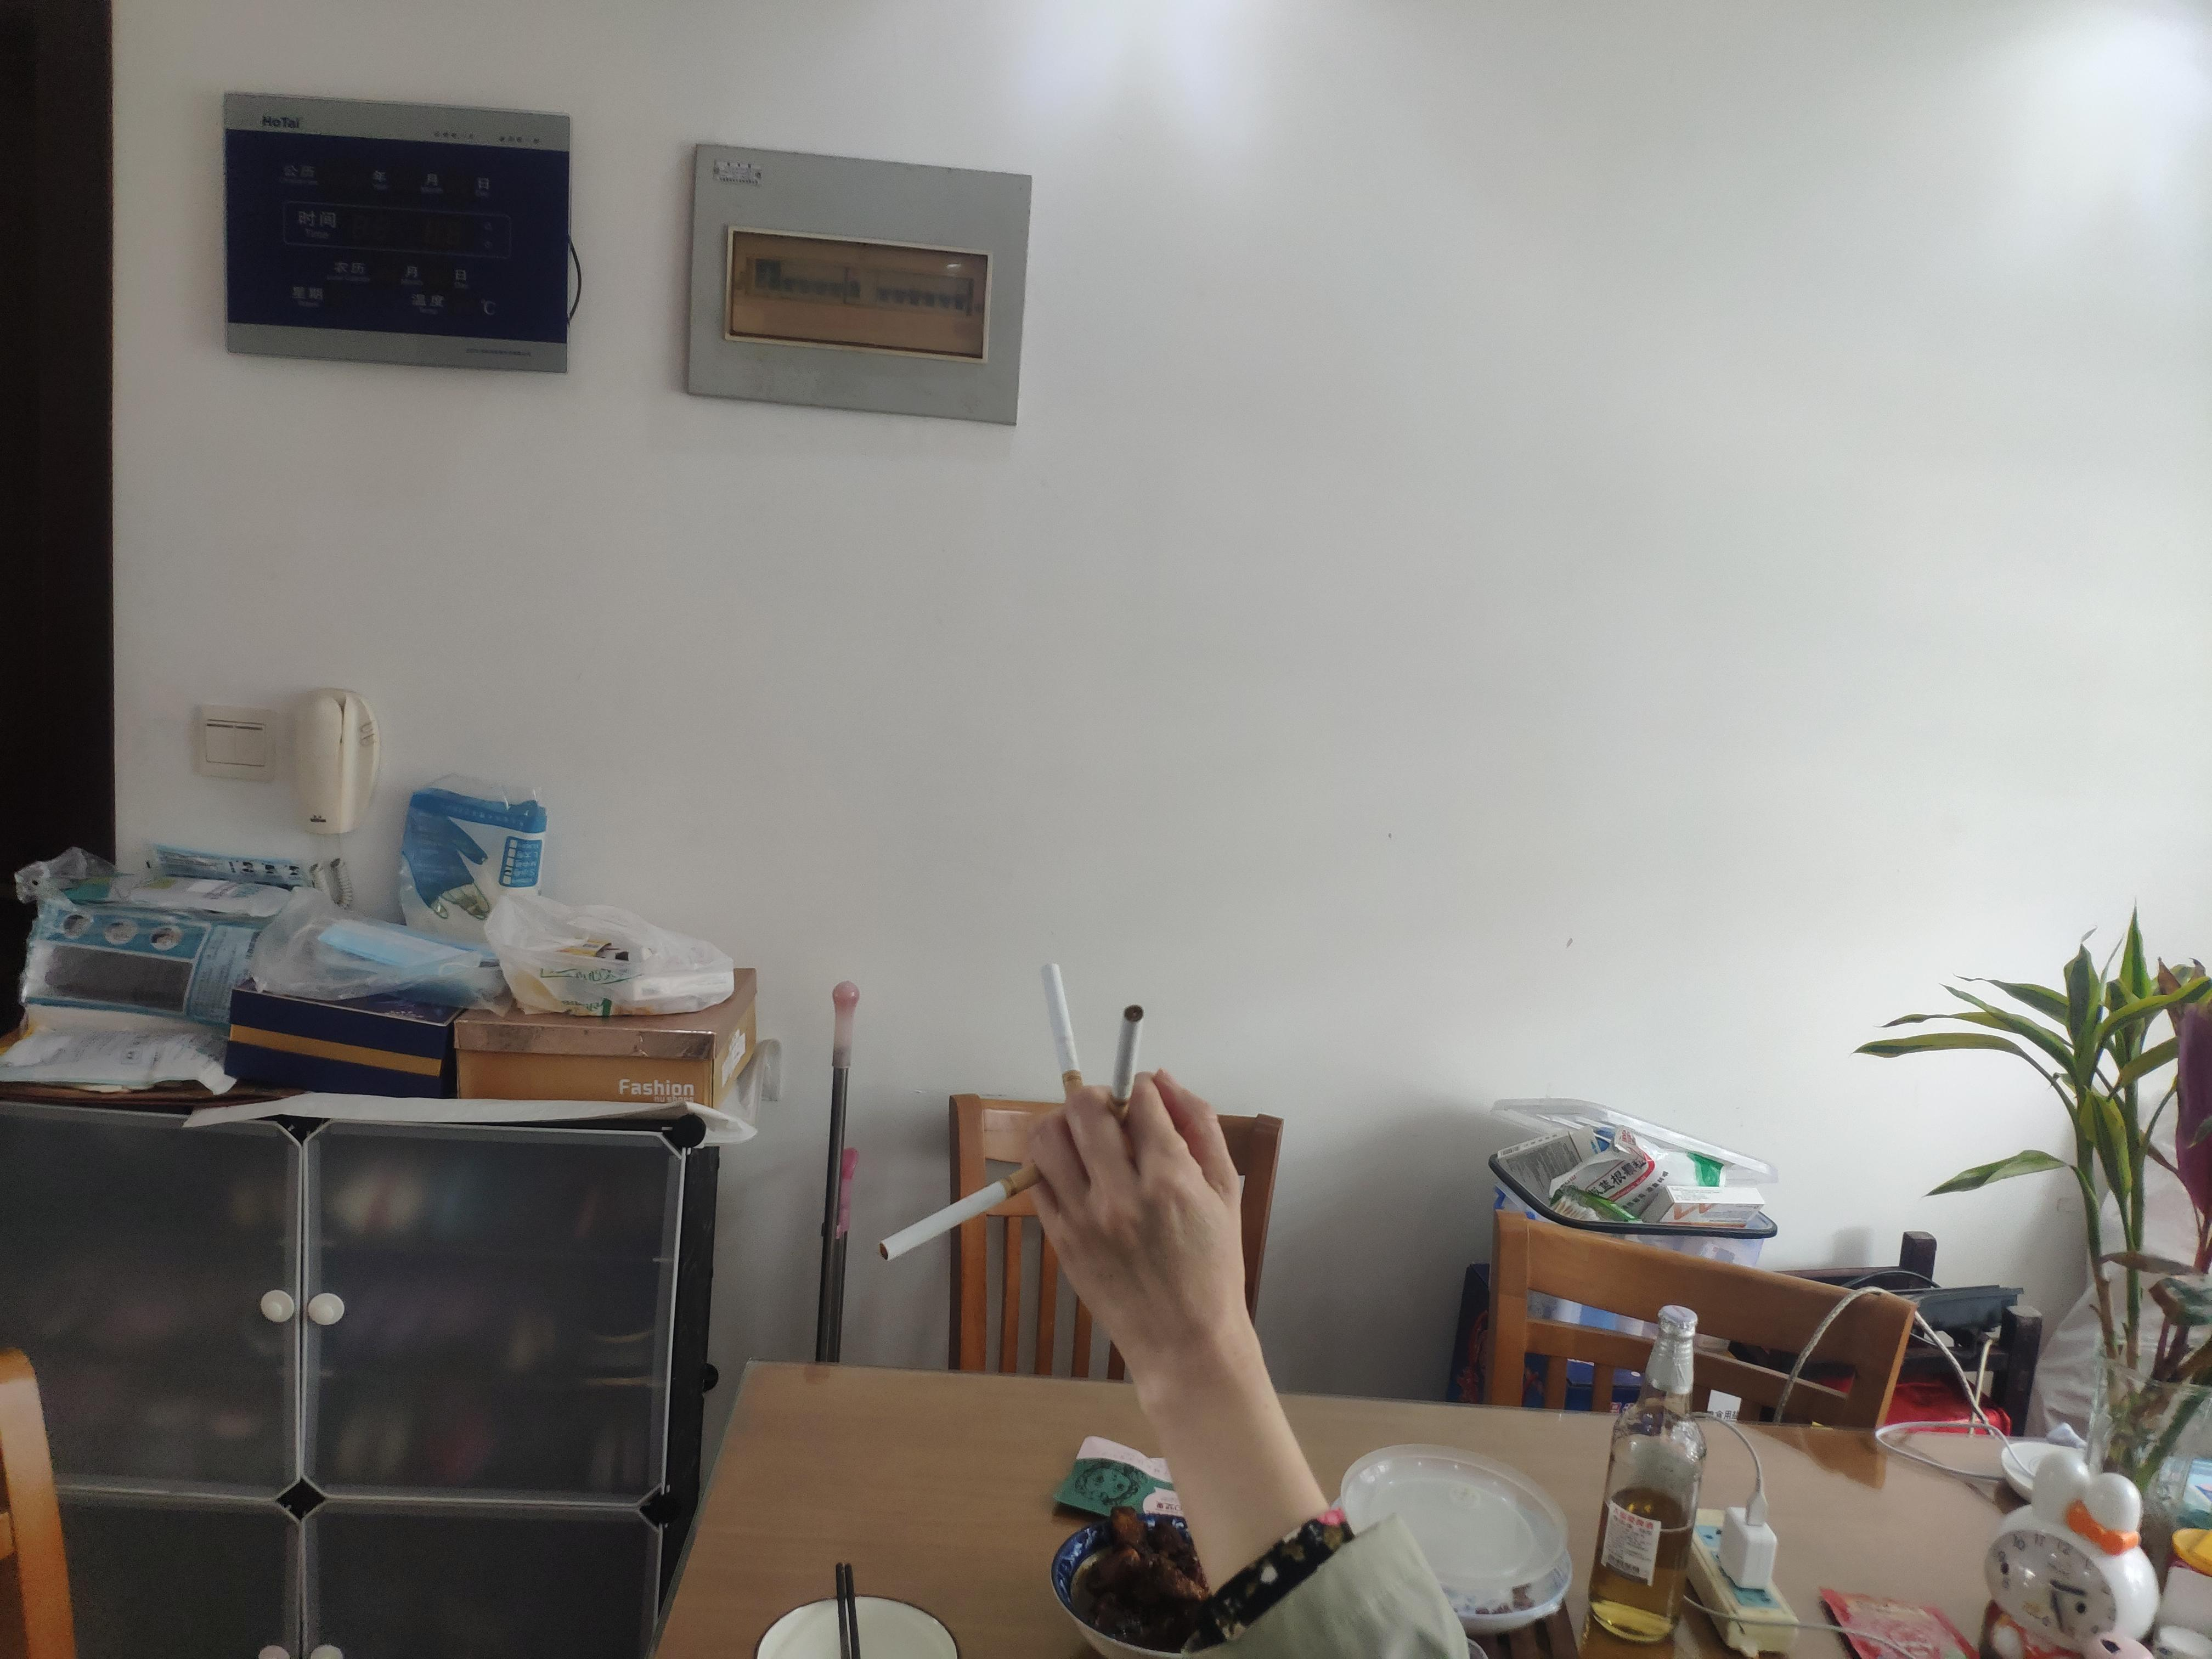smoke: (878, 1157, 1054, 1263), (1040, 964, 1090, 1124), (1103, 1004, 1146, 1138)
